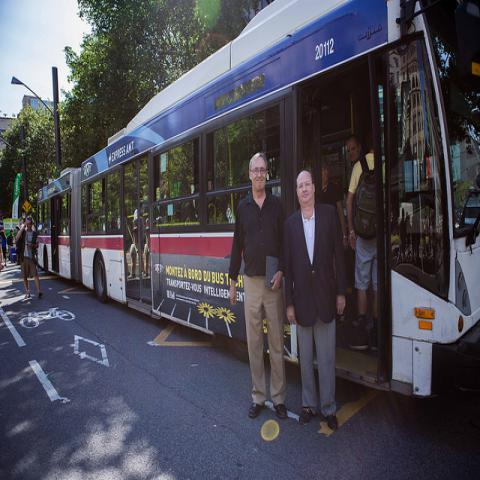bus: (35, 0, 479, 395)
